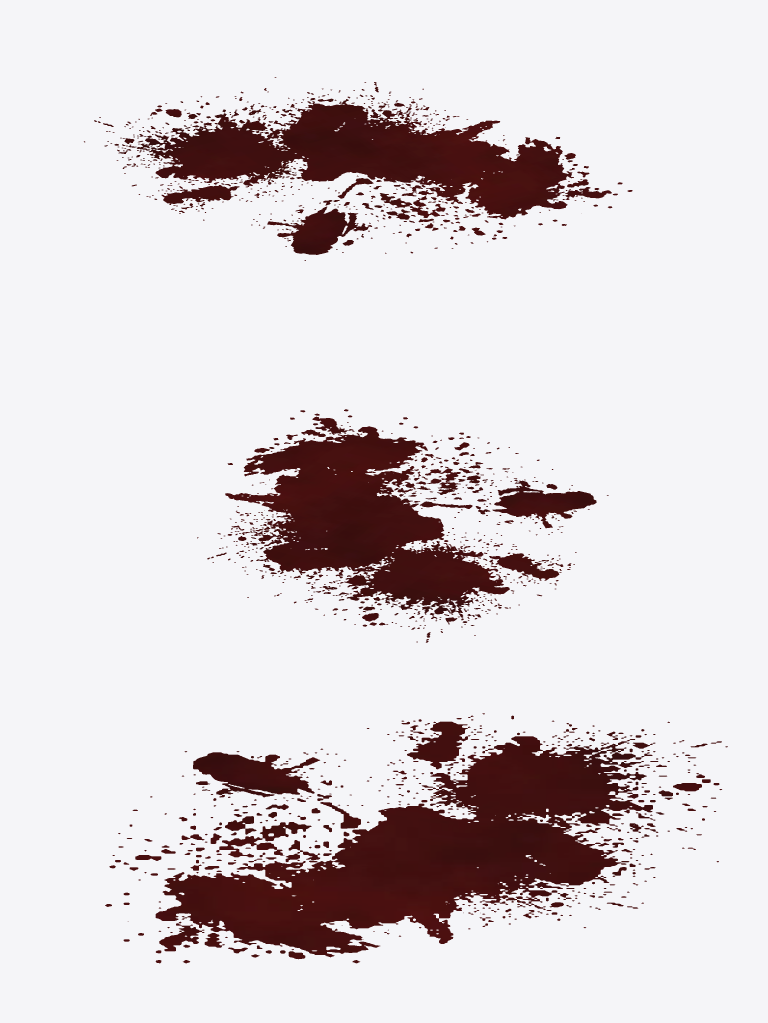
Rendered from KM_BLOOD_02.glb.
The picture shows the model from 3 angles, top to bottom: view 1: azimuth 30°, elevation 25°; view 2: azimuth 150°, elevation 25°; view 3: azimuth 270°, elevation 25°; orthographic projection. The views are drawn at different scales.
Parts seen in each view (by area): view 1: Mesh; view 2: Mesh; view 3: Mesh.
Part boxes in pixels (x1,y1,x2,y2): Mesh: [84, 77, 632, 260]; Mesh: [197, 409, 608, 642]; Mesh: [105, 713, 727, 963].
Bounding box in the file's own units: 1.2 × 0.0168 × 1.2.
Materials: 1 (1 with a texture image).
